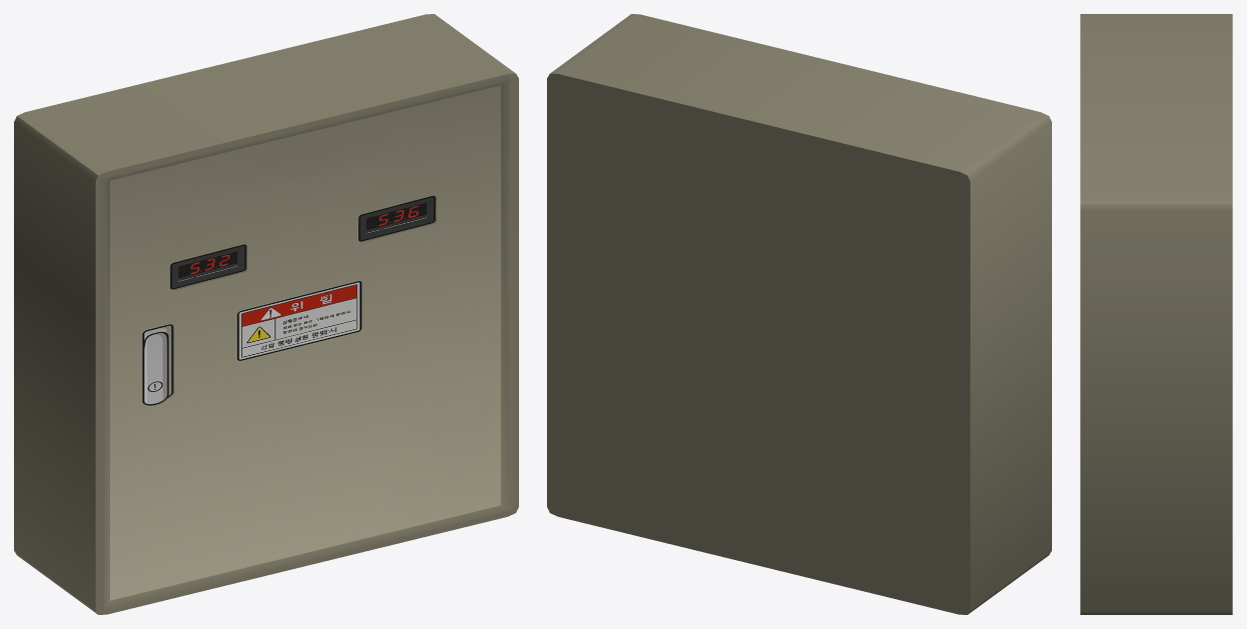
3 renders of one model, left to right at view 1: azimuth 30°, elevation 25°; view 2: azimuth 150°, elevation 25°; view 3: azimuth 270°, elevation 25°, orthographic. The views are drawn at different scales.
Parts seen in each view (by area): view 1: RM1-WH03W030D010; view 2: RM1-WH03W030D010; view 3: RM1-WH03W030D010.
Boxes of the visible parts, box(x1,y1,x2,y2) form: RM1-WH03W030D010: box(14, 14, 518, 614); RM1-WH03W030D010: box(547, 14, 1051, 614); RM1-WH03W030D010: box(1080, 14, 1232, 614).
Size of the model in its own units: 0.3 by 0.3 by 0.1.
2 materials, 1 textured.
